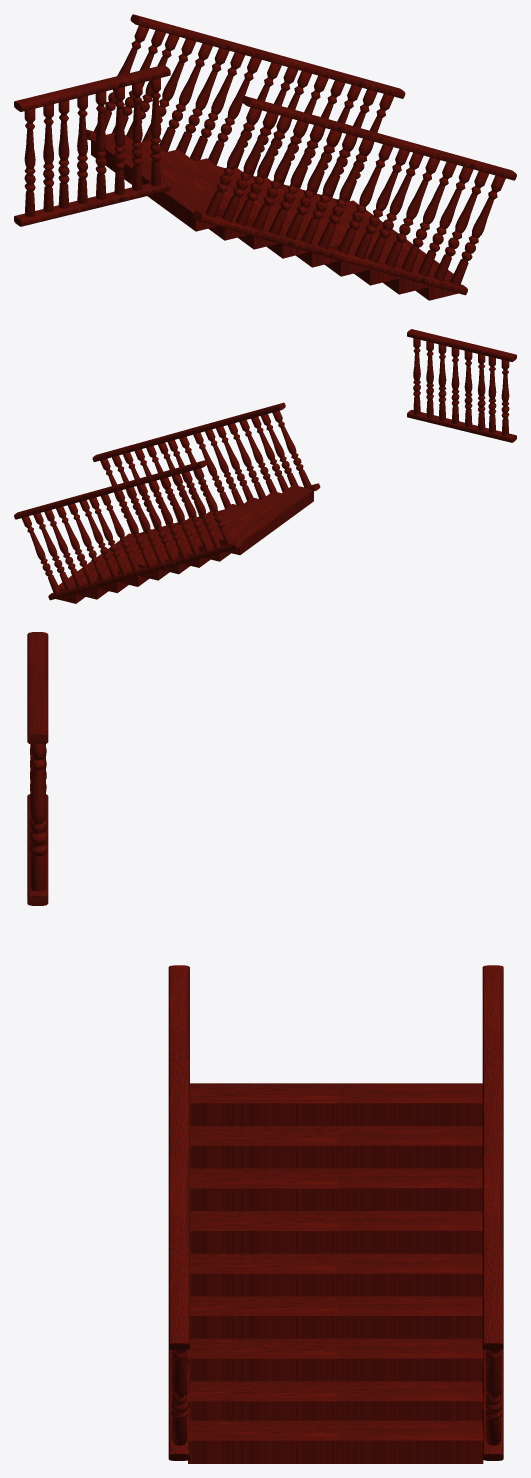
File: Stairs.fbx
The picture shows the model from 3 angles, top to bottom: view 1: azimuth 30°, elevation 25°; view 2: azimuth 150°, elevation 25°; view 3: azimuth 270°, elevation 25°; orthographic projection. The views are drawn at different scales.
Parts seen in each view (by area): view 1: Stairs, handrail; view 2: Stairs, handrail; view 3: Stairs, handrail.
Boxes of the visible parts, <box> form: Stairs: <box>86,14,516,300</box>; handrail: <box>14,65,170,226</box>; Stairs: <box>14,402,320,603</box>; handrail: <box>407,329,516,442</box>; Stairs: <box>168,965,503,1463</box>; handrail: <box>27,632,48,905</box>.
Bounding box in the file's own units: 133 × 81.67 × 71.62.
1 material, 1 textured.
